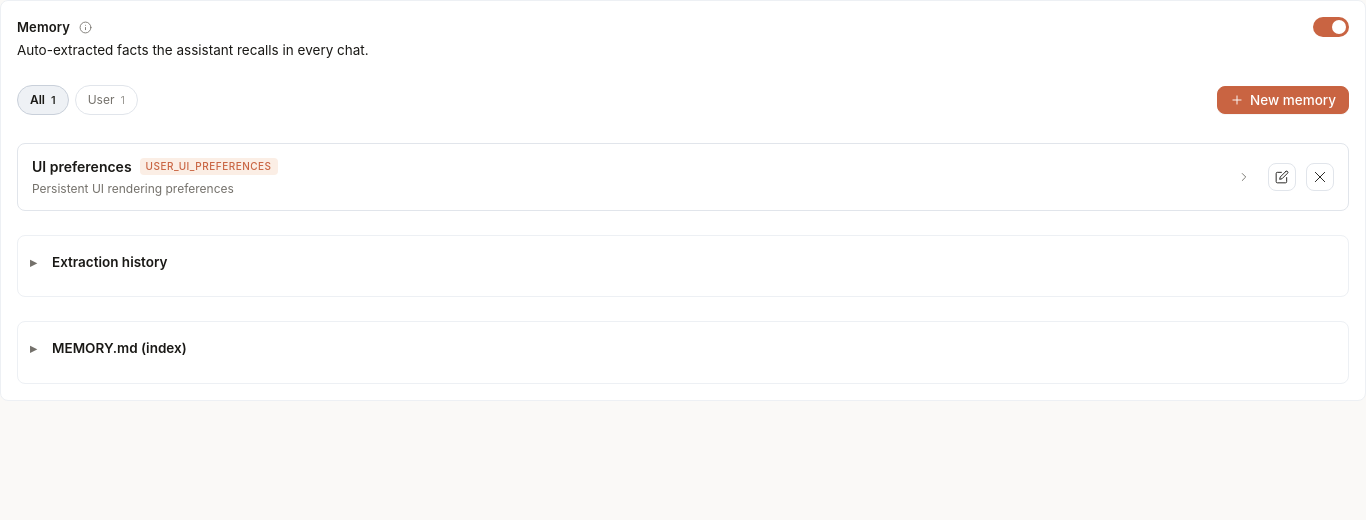
Test: MemorySection › deletes an existing memory entry from the list
Click the button titled "Delete": (1320, 177) [1306,163,1334,191]
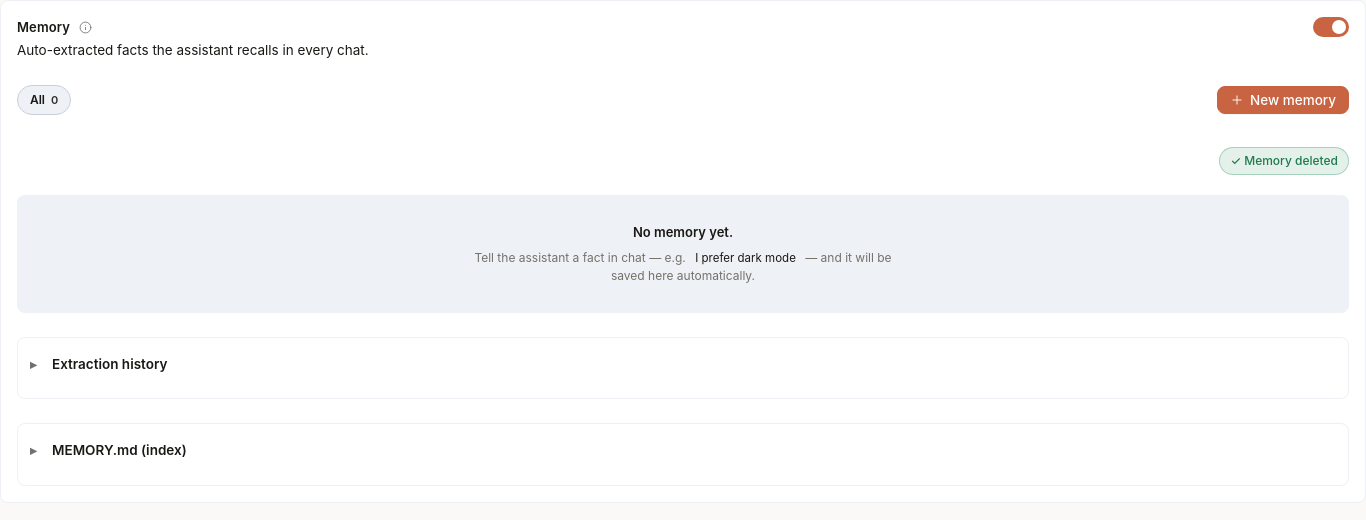
Now the text "✓ Memory deleted" is shown, box [1219,147,1349,175]
Now the text "No memory yet." is shown, box [633,223,733,243]
